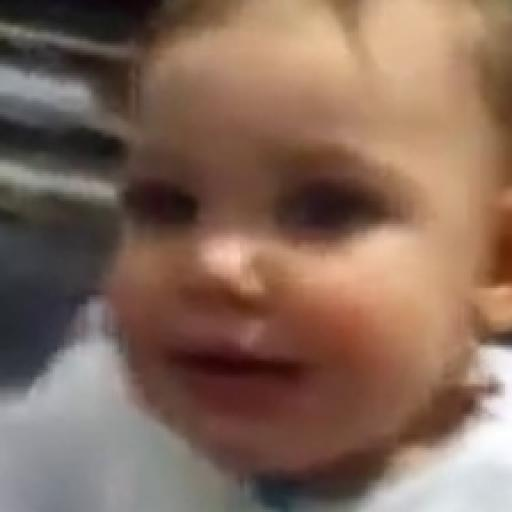Autism: (116, 51, 512, 481)
